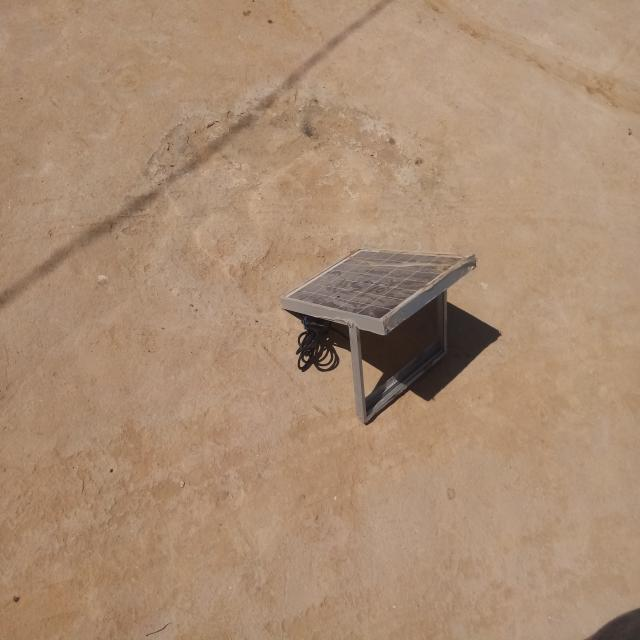faulty: (283, 249, 473, 320)
